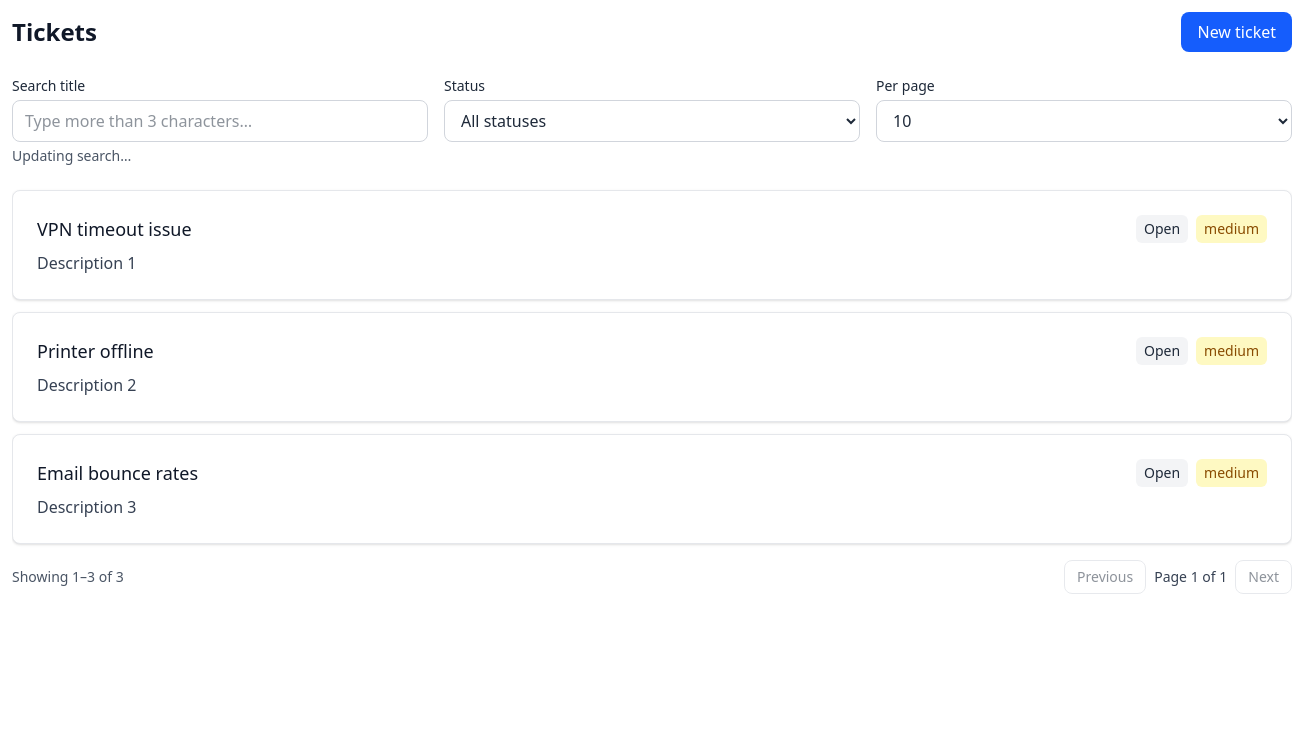
it: TicketListPage title search › applies title filter after more than 3 characters and 500ms debounce
The width and height of the screenshot is (1304, 732).
Type "print" into the search field labelled "Search title".
click(220, 121); type("print")  # box left=12, top=100, right=428, bottom=142
Wait 500 ms
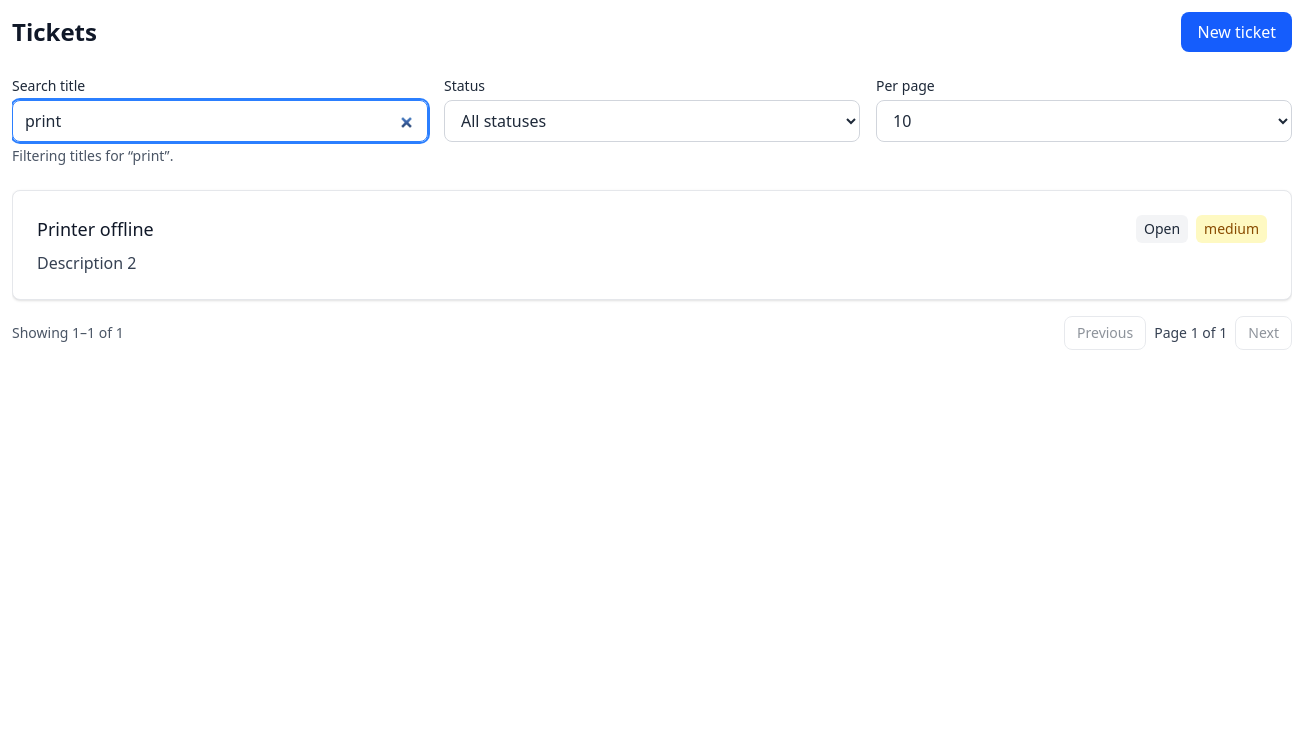
Expected: the heading "Printer offline" is shown, left=37, top=215, right=154, bottom=243
Expected: the link "VPN timeout issue" is gone
